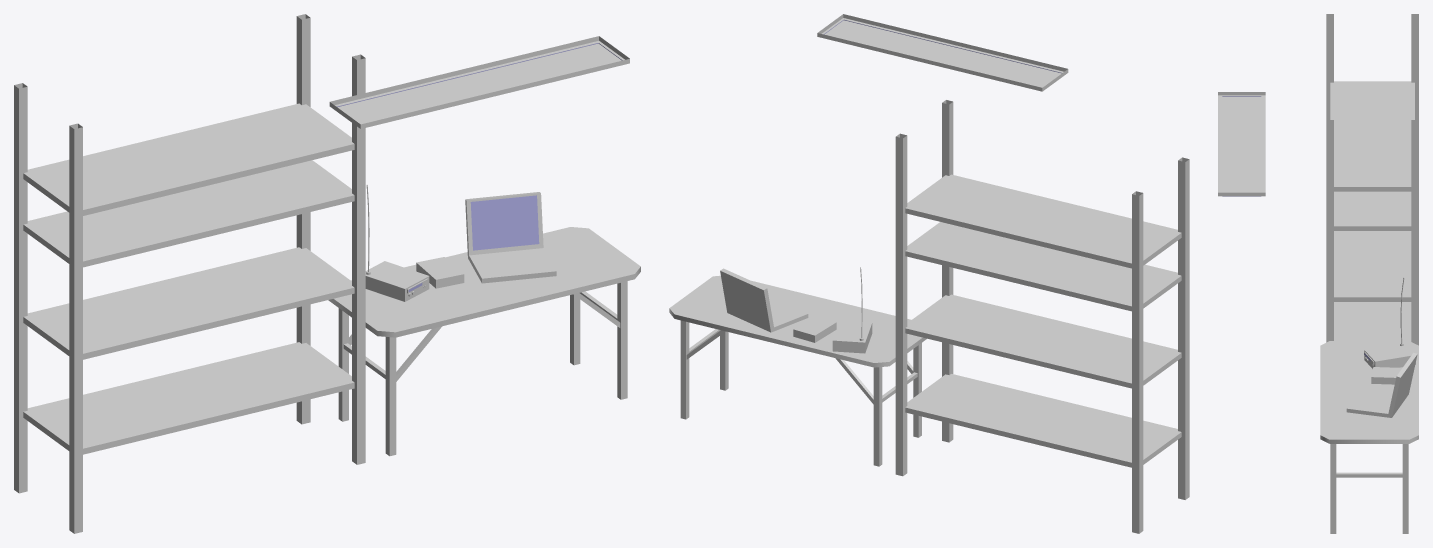
File: Interiers container.fbx
3 views of the same model, side by side, from view 1: azimuth 30°, elevation 25°; view 2: azimuth 150°, elevation 25°; view 3: azimuth 270°, elevation 25° (orthographic). The views are drawn at different scales.
Parts seen in each view (by area): view 1: Rek, Tabel, Lamps, Laptop, Radioantenne, Radio; view 2: Rek, Tabel, Lamps, Laptop, Radioantenne, Radio; view 3: Rek, Tabel, Lamps, Laptop, Radioantenne, Radio.
Part boxes in pixels (<box>): Rek: <box>14,14,365,533</box>; Tabel: <box>328,227,640,456</box>; Lamps: <box>329,36,629,128</box>; Laptop: <box>465,192,556,283</box>; Radioantenne: <box>365,184,429,301</box>; Radio: <box>416,257,464,288</box>; Rek: <box>895,100,1189,533</box>; Tabel: <box>669,275,926,466</box>; Lamps: <box>817,14,1068,91</box>; Laptop: <box>720,268,808,332</box>; Radioantenne: <box>832,267,872,353</box>; Radio: <box>793,316,836,342</box>; Rek: <box>1326,14,1418,345</box>; Tabel: <box>1320,341,1418,533</box>; Lamps: <box>1218,92,1265,196</box>; Laptop: <box>1346,352,1417,417</box>; Radioantenne: <box>1364,277,1415,368</box>; Radio: <box>1371,367,1401,384</box>.
Bounding box in the file's own units: 4.42 × 3.05 × 1.76.
